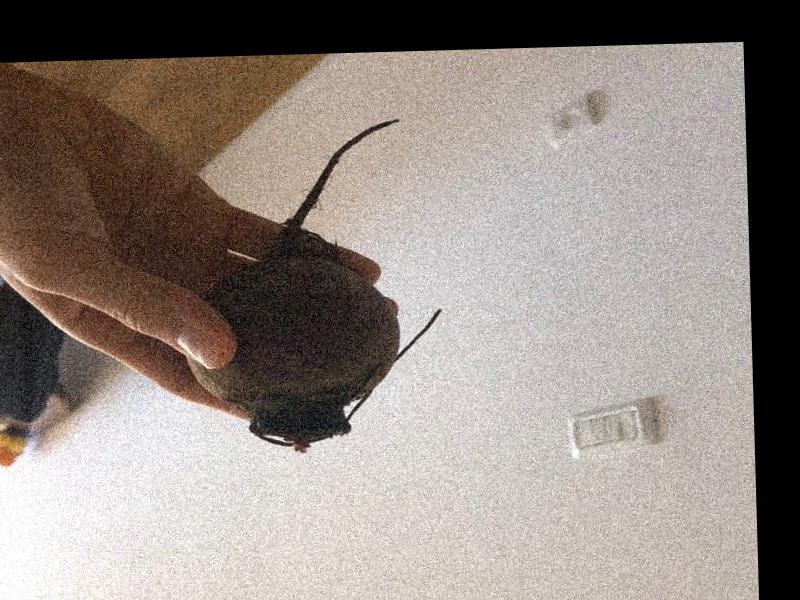Beet: (178, 117, 447, 455)
